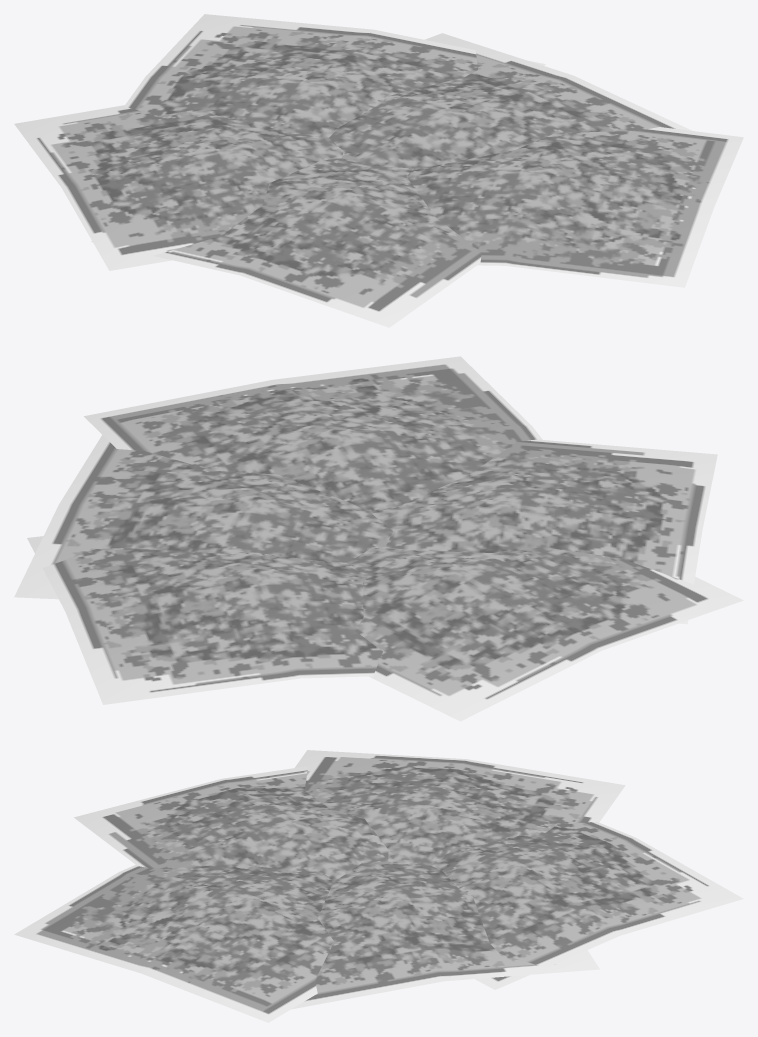
File: Grass3.fbx
3 renders of one model, top to bottom at view 1: azimuth 30°, elevation 25°; view 2: azimuth 150°, elevation 25°; view 3: azimuth 270°, elevation 25°, orthographic. The views are drawn at different scales.
Parts seen in each view (by area): view 1: Grass3; view 2: Grass3; view 3: Grass3.
Boxes of the visible parts, x1=… form: Grass3: x1=14, y1=14, x2=743, y2=327; Grass3: x1=14, y1=356, x2=743, y2=721; Grass3: x1=14, y1=750, x2=743, y2=1022.
Size of the model in its own units: 1.96 by 0.0833 by 2.22.
1 material, 1 textured.
